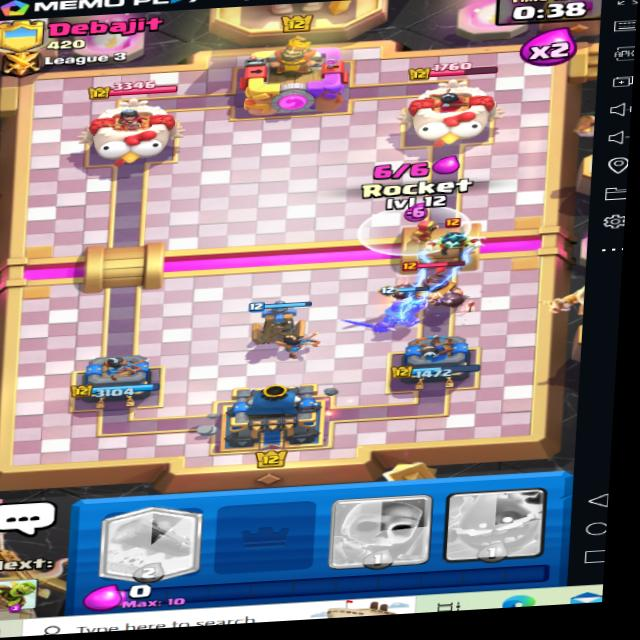electro-wizard: (422, 216, 483, 257)
mega-knight: (373, 252, 472, 320)
wizard: (397, 207, 450, 247)
